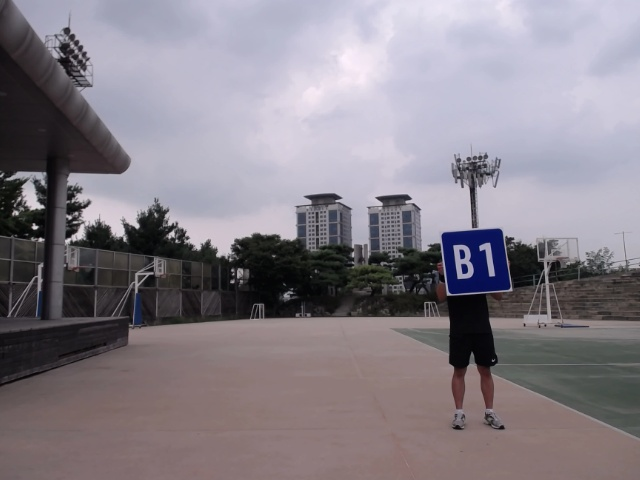delivery_b1: (441, 227, 512, 295)
